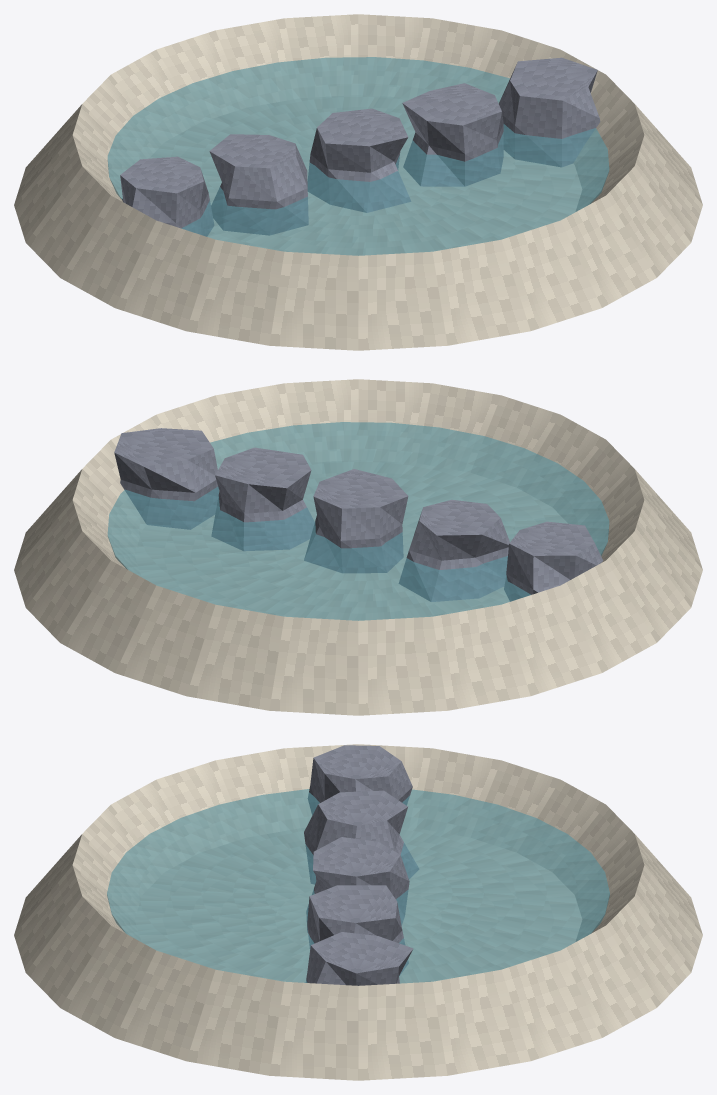
Rendered from cave-and-crystal-networks-stepping-stones-af0aeb7c.glb.
3 views of the same model, one above another, from view 1: azimuth 30°, elevation 25°; view 2: azimuth 150°, elevation 25°; view 3: azimuth 270°, elevation 25° (orthographic).
Visible parts, largest first — view 1: stepping-stones; view 2: stepping-stones; view 3: stepping-stones.
Part boxes in pixels (x1,y1,x2,y2): stepping-stones: [14, 14, 702, 350]; stepping-stones: [14, 379, 702, 715]; stepping-stones: [14, 744, 702, 1080].
Size of the model in its own units: 4 by 0.4999 by 4.
Materials: 3 (3 with a texture image).
